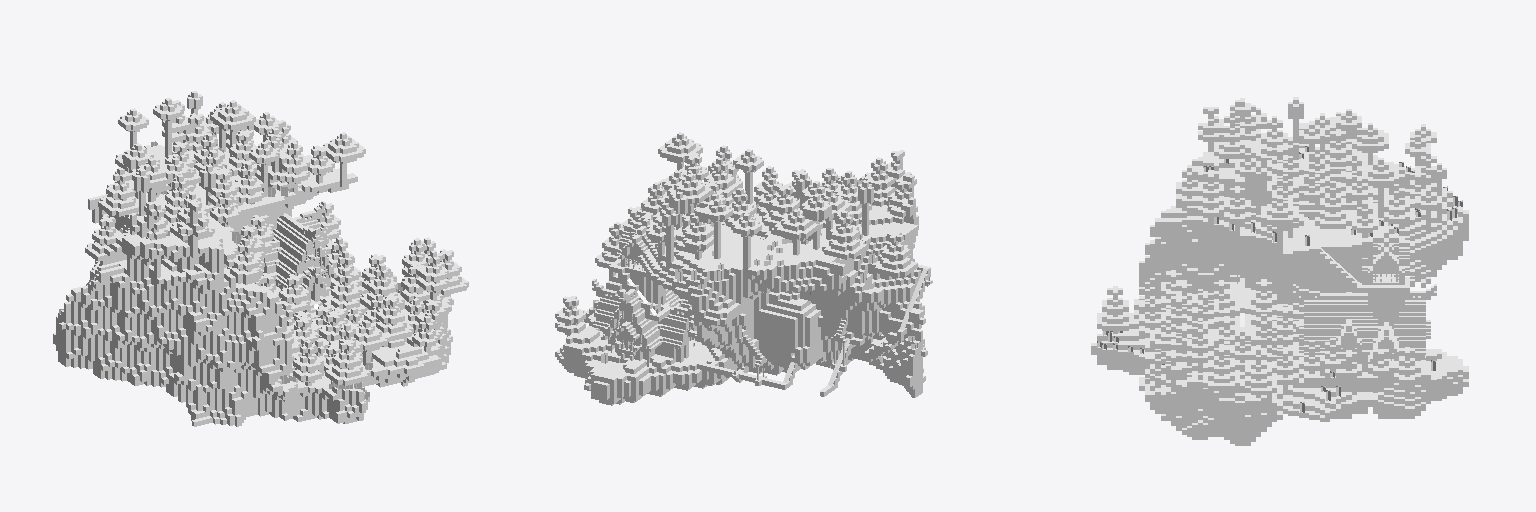
File: Mapa.obj
The picture shows the model from 3 angles: view 1: azimuth 30°, elevation 25°; view 2: azimuth 150°, elevation 25°; view 3: azimuth 270°, elevation 25°; orthographic projection.
Visible parts, largest first — view 1: Oak_Leaves, Stone, Grass_Block, Dirt, Oak_Log, Spruce_Stairs, Oak_Planks; view 2: Oak_Leaves, Grass_Block, Stone, Dirt, Oak_Log, Spruce_Stairs, Oak_Planks, Rail, Sunflower; view 3: Oak_Leaves, Grass_Block, Stone, Dirt, Spruce_Stairs, Oak_Planks, Oak_Log, Sunflower, Smooth_Stone.
Boxes of the visible parts, x1=… form: Oak_Leaves: x1=85, y1=91, x2=468, y2=385; Stone: x1=56, y1=193, x2=452, y2=426; Grass_Block: x1=53, y1=144, x2=453, y2=418; Dirt: x1=53, y1=175, x2=448, y2=414; Oak_Log: x1=104, y1=108, x2=449, y2=385; Spruce_Stairs: x1=91, y1=201, x2=337, y2=290; Oak_Planks: x1=86, y1=143, x2=333, y2=291; Oak_Leaves: x1=555, y1=132, x2=917, y2=334; Grass_Block: x1=555, y1=179, x2=927, y2=390; Stone: x1=566, y1=243, x2=925, y2=397; Dirt: x1=562, y1=221, x2=923, y2=405; Oak_Log: x1=600, y1=158, x2=902, y2=362; Spruce_Stairs: x1=592, y1=228, x2=932, y2=388; Oak_Planks: x1=596, y1=219, x2=930, y2=396; Rail: x1=609, y1=259, x2=930, y2=391; Sunflower: x1=593, y1=179, x2=874, y2=363; Oak_Leaves: x1=1097, y1=97, x2=1446, y2=394; Grass_Block: x1=1091, y1=138, x2=1468, y2=421; Stone: x1=1097, y1=192, x2=1468, y2=445; Dirt: x1=1091, y1=147, x2=1468, y2=426; Spruce_Stairs: x1=1293, y1=243, x2=1436, y2=363; Oak_Planks: x1=1240, y1=231, x2=1430, y2=360; Oak_Log: x1=1113, y1=121, x2=1441, y2=397; Sunflower: x1=1108, y1=165, x2=1457, y2=412; Smooth_Stone: x1=1325, y1=256, x2=1409, y2=299.
Size of the model in its own units: 77 by 46 by 71.